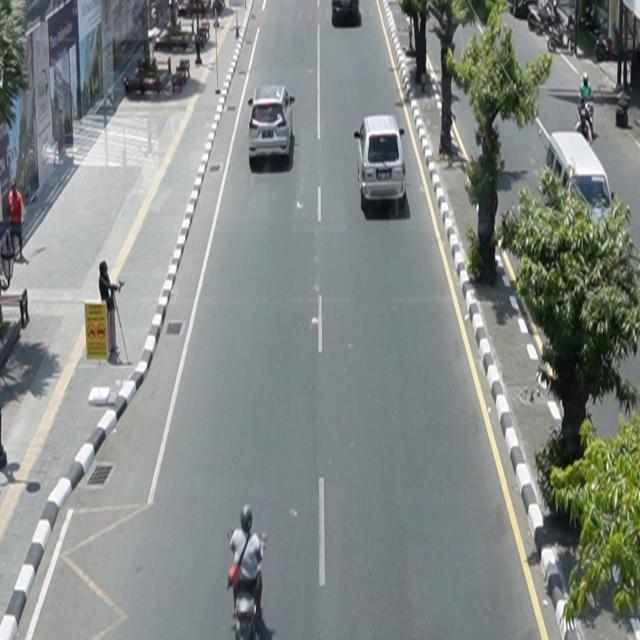car: (354, 114, 407, 211), (249, 85, 297, 161), (332, 1, 361, 26)
